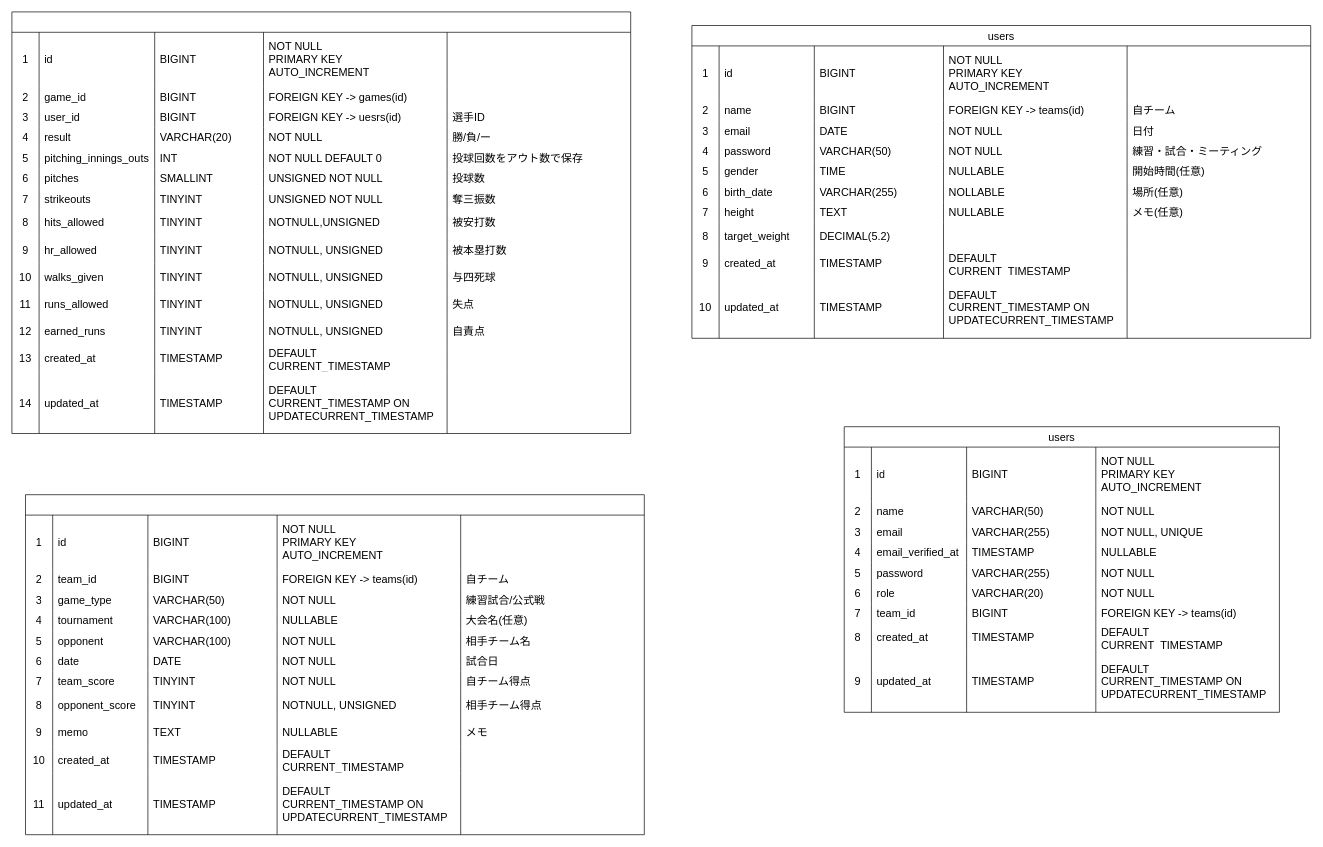
The diagram is 1323 pixels wide and 847 high, and some of its shapes have lost their labels. The shapes that lost their labels are listed below. From the top down, each one's box as (x1, y1, x2, y2) in pixels, then its label:
(11, 11, 631, 434): pitching_records
(25, 494, 644, 835): games
